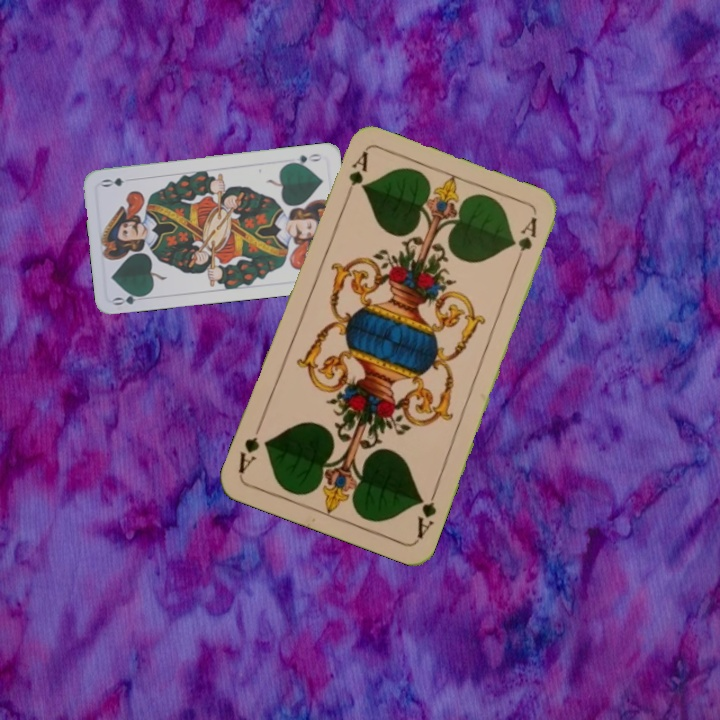GA: (340, 148, 370, 205), (413, 484, 440, 541)
GO: (109, 289, 150, 308), (284, 150, 324, 168)
